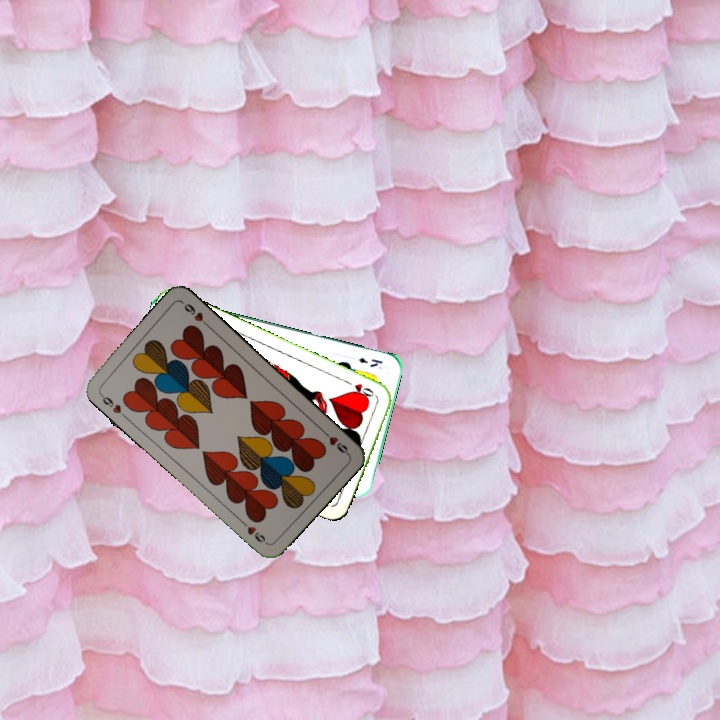EK: (354, 353, 385, 370)
H9: (318, 426, 351, 457), (96, 389, 129, 420)
HO: (343, 377, 381, 402)
